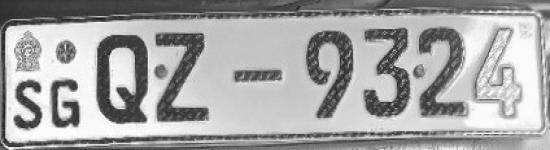-: (232, 65, 286, 88)
2: (414, 22, 472, 119)
3: (359, 24, 414, 125)
4: (470, 23, 529, 122)
9: (304, 25, 358, 123)
G: (47, 76, 85, 134)
Q: (93, 28, 152, 128)
S: (13, 74, 45, 133)
Z: (153, 26, 215, 128)
